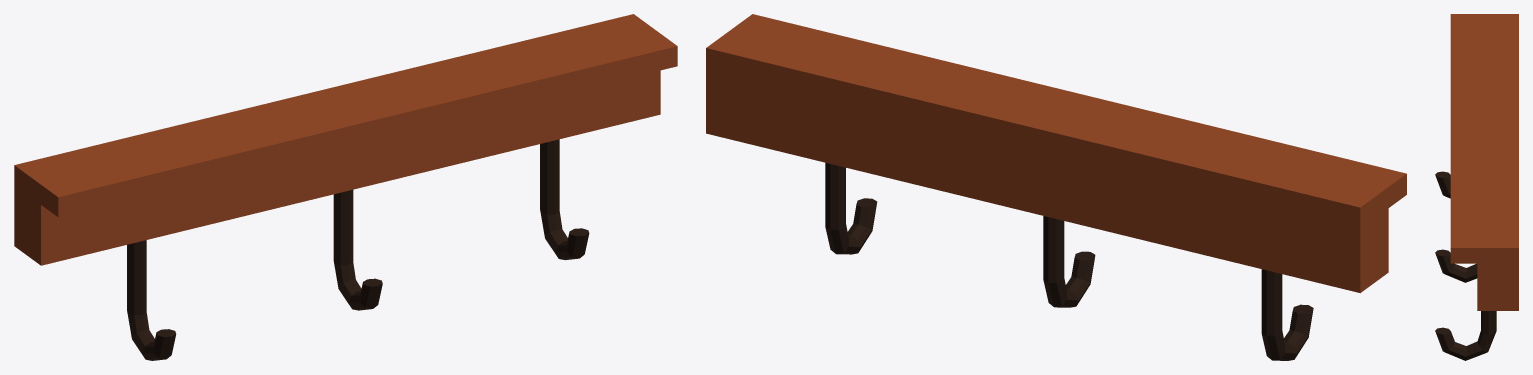
File: Prop_WallHanger_03.fbx
3 views of the same model, side by side, from view 1: azimuth 30°, elevation 25°; view 2: azimuth 150°, elevation 25°; view 3: azimuth 270°, elevation 25° (orthographic). The views are drawn at different scales.
Visible parts, largest first — view 1: Prop_WallHanger_03; view 2: Prop_WallHanger_03; view 3: Prop_WallHanger_03.
Boxes of the visible parts, x1,y1,x2,y2 form: Prop_WallHanger_03: (14,14,677,360); Prop_WallHanger_03: (706,14,1406,360); Prop_WallHanger_03: (1435,14,1518,360).
Bounding box in the file's own units: 120 × 36.23 × 18.15.
